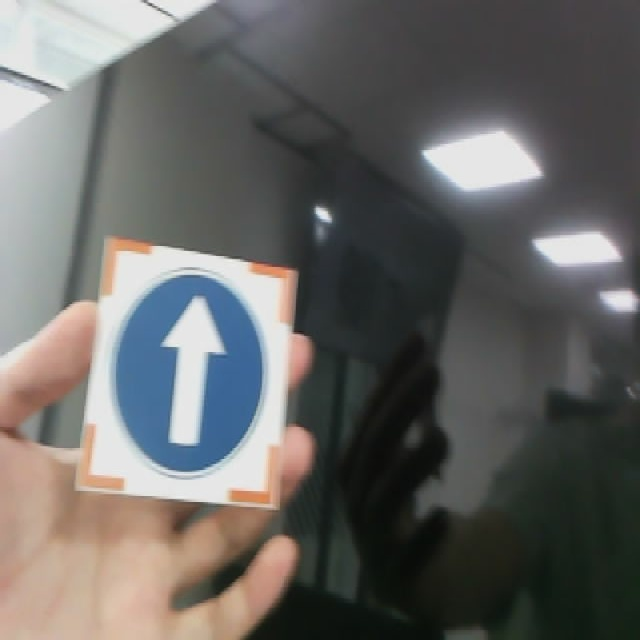strait: (71, 233, 300, 514)
